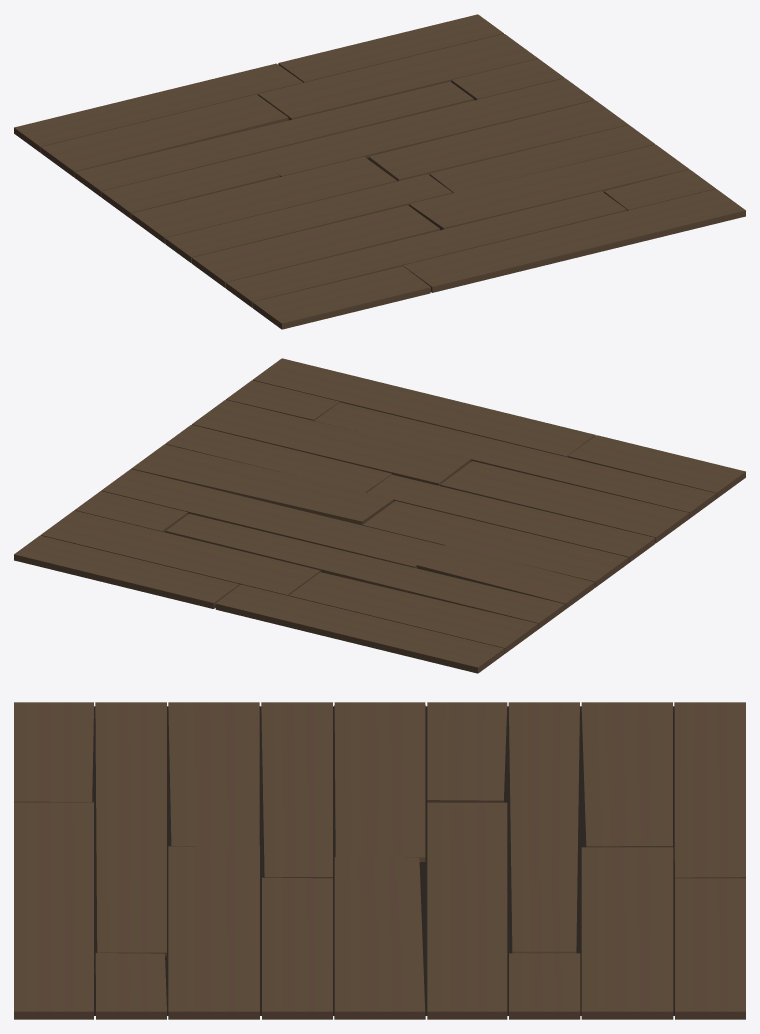
Rendered from Floor_1.fbx.
The picture shows the model from 3 angles, top to bottom: view 1: azimuth 30°, elevation 25°; view 2: azimuth 150°, elevation 25°; view 3: azimuth 270°, elevation 25°; orthographic projection. The views are drawn at different scales.
Parts seen in each view (by area): view 1: pCube758; view 2: pCube758; view 3: pCube758.
Boxes of the visible parts, x1=… form: pCube758: x1=14, y1=14, x2=745, y2=329; pCube758: x1=14, y1=358, x2=745, y2=673; pCube758: x1=14, y1=702, x2=745, y2=1019.
Bounding box in the file's own units: 400 × 5.93 × 400.
